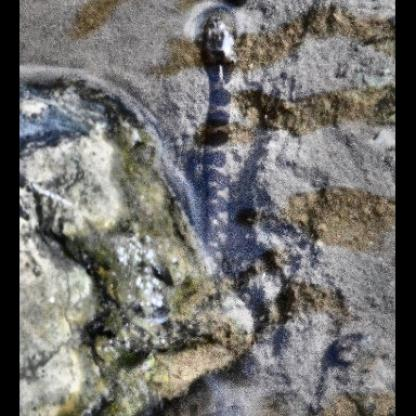Snake: (186, 10, 253, 298)
